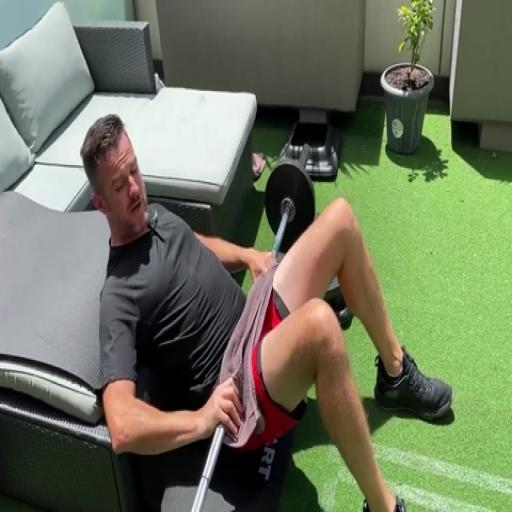exercise: (78, 111, 455, 511)
